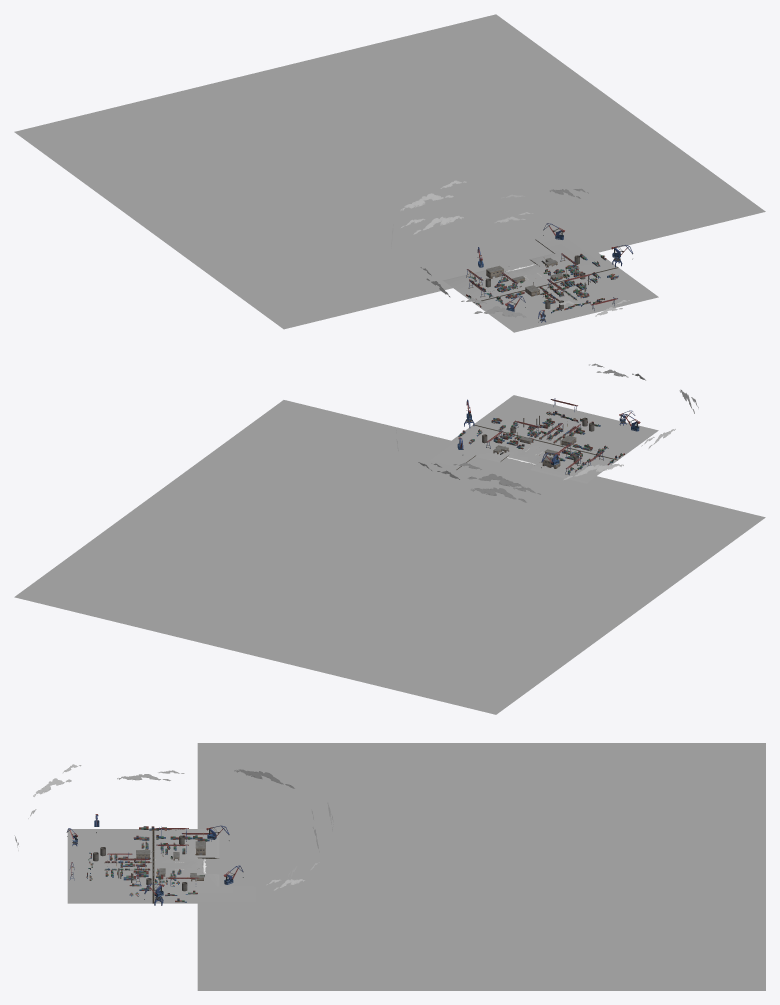
File: Map07_Deep_Water_Harbor.fbx
3 renders of one model, top to bottom at view 1: azimuth 30°, elevation 25°; view 2: azimuth 150°, elevation 25°; view 3: azimuth 270°, elevation 25°, orthographic. The views are drawn at different scales.
Parts seen in each view (by area): view 1: Water, Asset_Map_07_3, Cloud_2, Asset_Map_07_2, Asset_Map_07_6, Cloud_1, Asset_Map_07_4; view 2: Water, Asset_Map_07_3, Cloud_2, Asset_Map_07_6, Asset_Map_07_2, Asset_Map_07_4; view 3: Water, Asset_Map_07_3, Asset_Map_07_2, Asset_Map_07_6, Asset_Map_07_4, Cloud_2, Cloud_1.
Part boxes in pixels (left/top/right/bottom): Water: left=14, top=14, right=765, bottom=329; Asset_Map_07_3: left=442, top=231, right=658, bottom=332; Cloud_2: left=391, top=180, right=588, bottom=248; Asset_Map_07_2: left=466, top=265, right=525, bottom=303; Asset_Map_07_6: left=550, top=258, right=622, bottom=298; Cloud_1: left=420, top=267, right=629, bottom=317; Asset_Map_07_4: left=476, top=282, right=563, bottom=322; Water: left=14, top=400, right=765, bottom=714; Asset_Map_07_3: left=423, top=395, right=658, bottom=483; Cloud_2: left=396, top=430, right=623, bottom=502; Asset_Map_07_6: left=464, top=415, right=554, bottom=444; Asset_Map_07_2: left=539, top=443, right=619, bottom=475; Asset_Map_07_4: left=560, top=410, right=635, bottom=457; Water: left=197, top=743, right=765, bottom=990; Asset_Map_07_3: left=67, top=829, right=258, bottom=903; Asset_Map_07_2: left=149, top=826, right=214, bottom=860; Asset_Map_07_6: left=105, top=865, right=167, bottom=905; Asset_Map_07_4: left=66, top=826, right=151, bottom=861; Cloud_2: left=234, top=769, right=333, bottom=890; Cloud_1: left=14, top=764, right=184, bottom=850.
Size of the model in its own units: 1486 by 143 by 1905.
